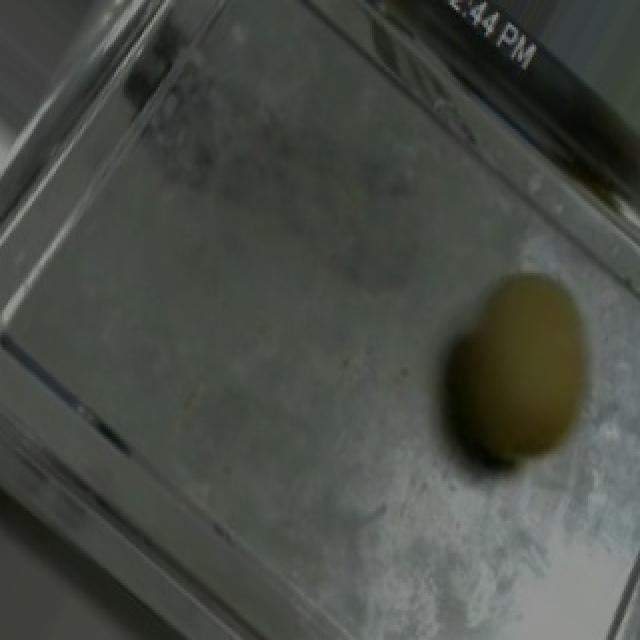Fruit: (404, 241, 634, 498)
